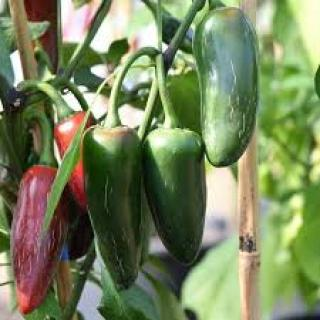Cabai Hijau: (193, 12, 259, 170), (82, 127, 143, 292), (140, 129, 207, 266)
Cabai Merah: (12, 165, 70, 316)
